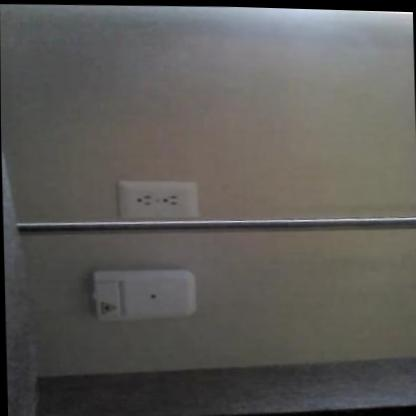OUTLET: (117, 178, 199, 221)
